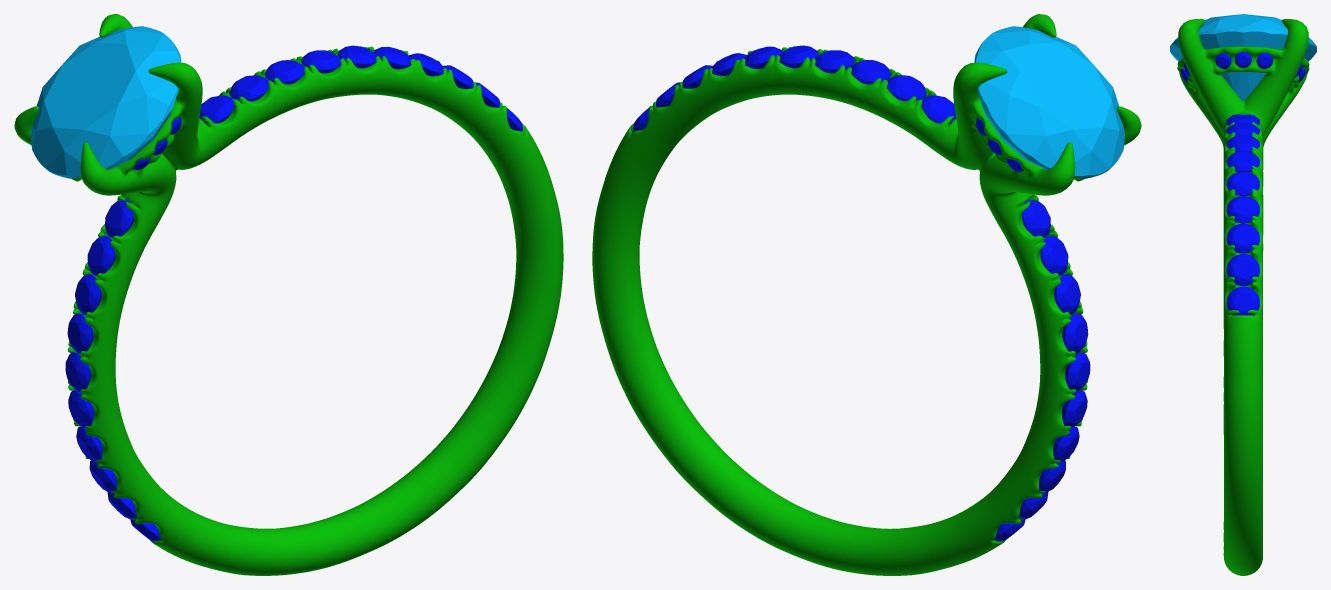
The picture shows the model from 3 angles, left to right: view 1: azimuth 30°, elevation 25°; view 2: azimuth 150°, elevation 25°; view 3: azimuth 270°, elevation 25°; orthographic projection. The views are drawn at different scales.
Parts seen in each view (by area): view 1: solitair.3dm; view 2: solitair.3dm; view 3: solitair.3dm.
Boxes of the visible parts, x1=… form: solitair.3dm: x1=14, y1=14, x2=563, y2=575; solitair.3dm: x1=592, y1=14, x2=1141, y2=575; solitair.3dm: x1=1170, y1=14, x2=1316, y2=575.
Bounding box in the file's own units: 2.69 × 2.85 × 0.8135.
